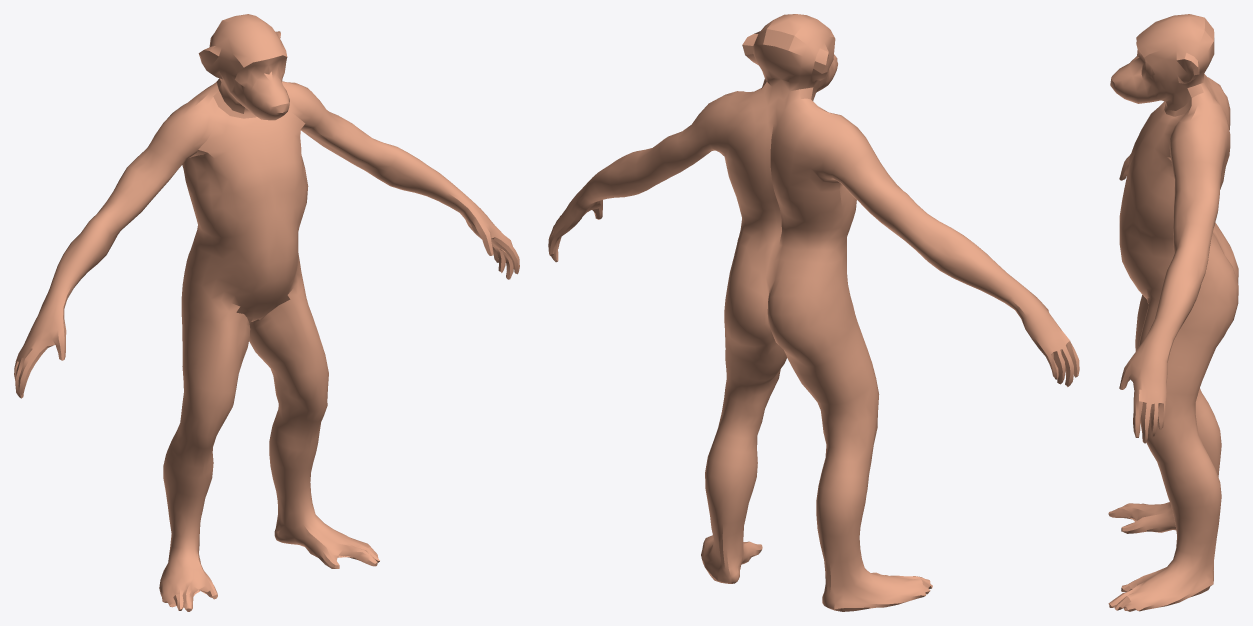
Rendered from Australophitecus3.glb.
3 views of the same model, side by side, from view 1: azimuth 30°, elevation 25°; view 2: azimuth 150°, elevation 25°; view 3: azimuth 270°, elevation 25° (orthographic). The views are drawn at different scales.
Visible parts, largest first — view 1: Retopo_evolution_1.002; view 2: Retopo_evolution_1.002; view 3: Retopo_evolution_1.002.
Boxes of the visible parts, left/top/right/bottom form: Retopo_evolution_1.002: left=14, top=14, right=519, bottom=611; Retopo_evolution_1.002: left=548, top=14, right=1079, bottom=611; Retopo_evolution_1.002: left=1108, top=14, right=1238, bottom=611.
Size of the model in its own units: 2.44 by 2.53 by 0.5482.
